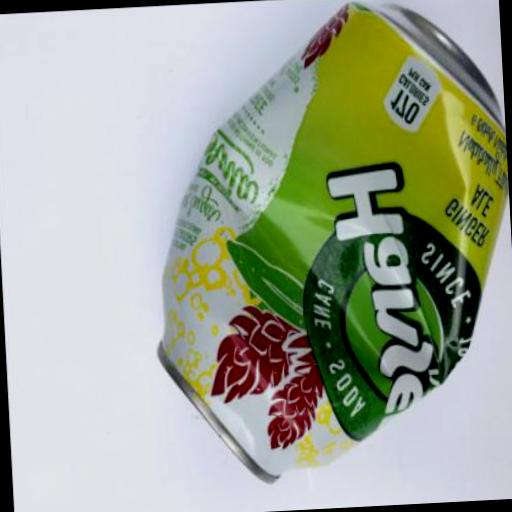metal: (134, 0, 512, 490)
